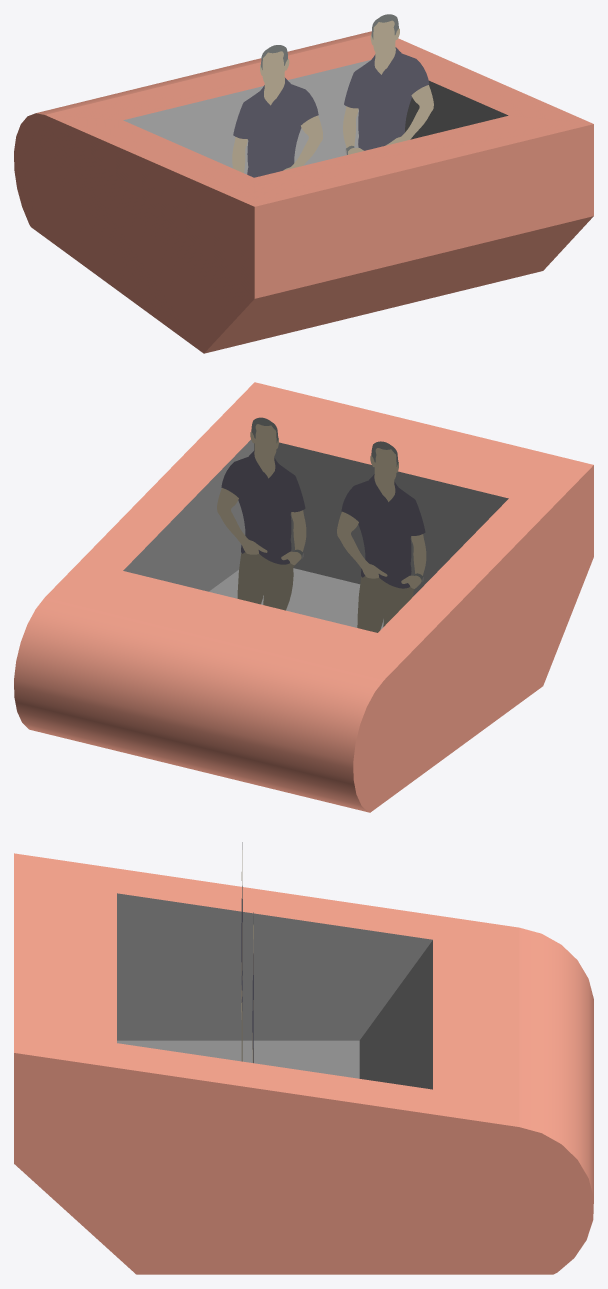
File: car.glb
3 renders of one model, top to bottom at view 1: azimuth 30°, elevation 25°; view 2: azimuth 150°, elevation 25°; view 3: azimuth 270°, elevation 25°, orthographic. The views are drawn at different scales.
Visible parts, largest first — view 1: SketchUp, SketchUp.023, SketchUp.013, SketchUp.006, SketchUp.015, SketchUp.007, SketchUp.017, SketchUp.009, SketchUp.019; view 2: SketchUp, SketchUp.023, SketchUp.013, SketchUp.006, SketchUp.016, SketchUp.008, SketchUp.007, SketchUp.015, SketchUp.017, SketchUp.009; view 3: SketchUp, SketchUp.023.
Boxes of the visible parts, box(x1,y1,x2,y2) form: SketchUp: box(14, 31, 593, 353); SketchUp.023: box(123, 60, 508, 174); SketchUp.013: box(344, 47, 429, 150); SketchUp.006: box(233, 78, 318, 177); SketchUp.015: box(370, 20, 399, 74); SketchUp.007: box(260, 51, 289, 105); SketchUp.017: box(385, 85, 433, 145); SketchUp.009: box(283, 115, 322, 170); SketchUp.019: box(343, 106, 358, 147); SketchUp: box(14, 382, 593, 812); SketchUp.023: box(123, 439, 508, 629); SketchUp.013: box(221, 450, 305, 564); SketchUp.006: box(341, 474, 425, 588); SketchUp.016: box(237, 552, 294, 610); SketchUp.008: box(357, 576, 414, 632); SketchUp.007: box(370, 448, 398, 501); SketchUp.015: box(250, 424, 278, 478); SketchUp.017: box(217, 488, 267, 554); SketchUp.009: box(337, 511, 387, 578); SketchUp: box(14, 853, 593, 1274); SketchUp.023: box(117, 893, 432, 1089).
Size of the model in its own units: 2.18 by 1.52 by 2.68.
